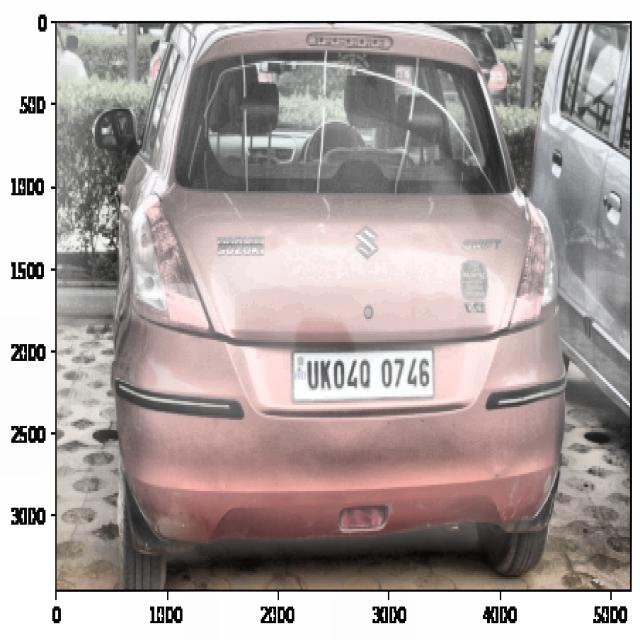license_plate: (301, 343, 440, 404)
